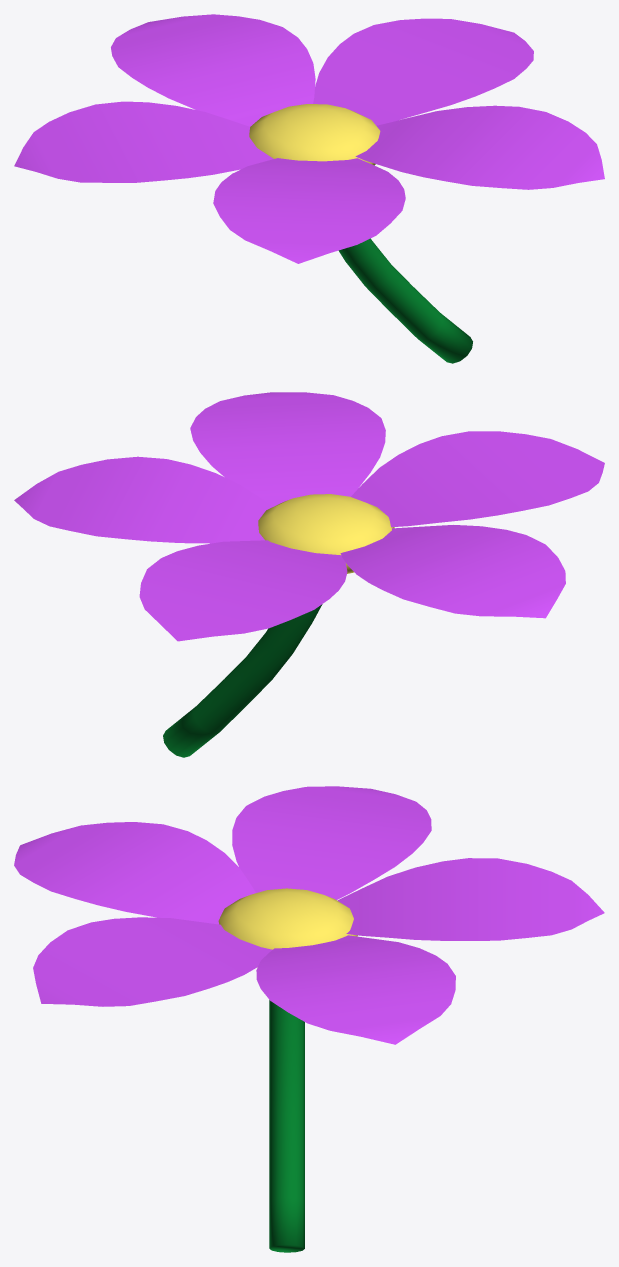
File: FlowerA.fbx
The picture shows the model from 3 angles, top to bottom: view 1: azimuth 30°, elevation 25°; view 2: azimuth 150°, elevation 25°; view 3: azimuth 270°, elevation 25°; orthographic projection. The views are drawn at different scales.
Parts seen in each view (by area): view 1: FlowerA; view 2: FlowerA; view 3: FlowerA.
Part boxes in pixels (box(x1,y1,x2,y2)): FlowerA: box(14, 14, 604, 363); FlowerA: box(14, 392, 604, 757); FlowerA: box(14, 786, 604, 1252).
Size of the model in its own units: 1.31 by 1.27 by 0.6761.
